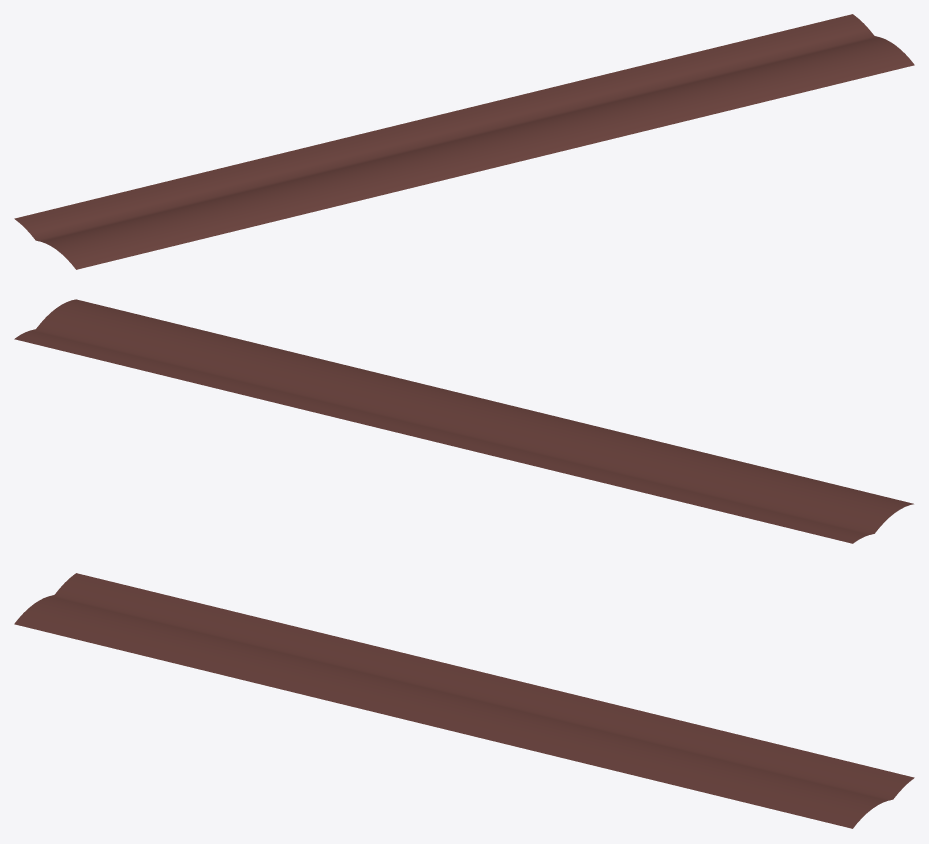
File: t1_b_south_station_back_roof.glb
3 renders of one model, top to bottom at view 1: azimuth 30°, elevation 25°; view 2: azimuth 150°, elevation 25°; view 3: azimuth 330°, elevation 25°, orthographic.
Parts seen in each view (by area): view 1: south_station_back_roof; view 2: south_station_back_roof; view 3: south_station_back_roof.
Part boxes in pixels (x1,y1,x2,y2): south_station_back_roof: [14, 14, 914, 269]; south_station_back_roof: [14, 299, 913, 543]; south_station_back_roof: [14, 573, 914, 828].
Size of the model in its own units: 84.81 by 0.6518 by 10.89.
